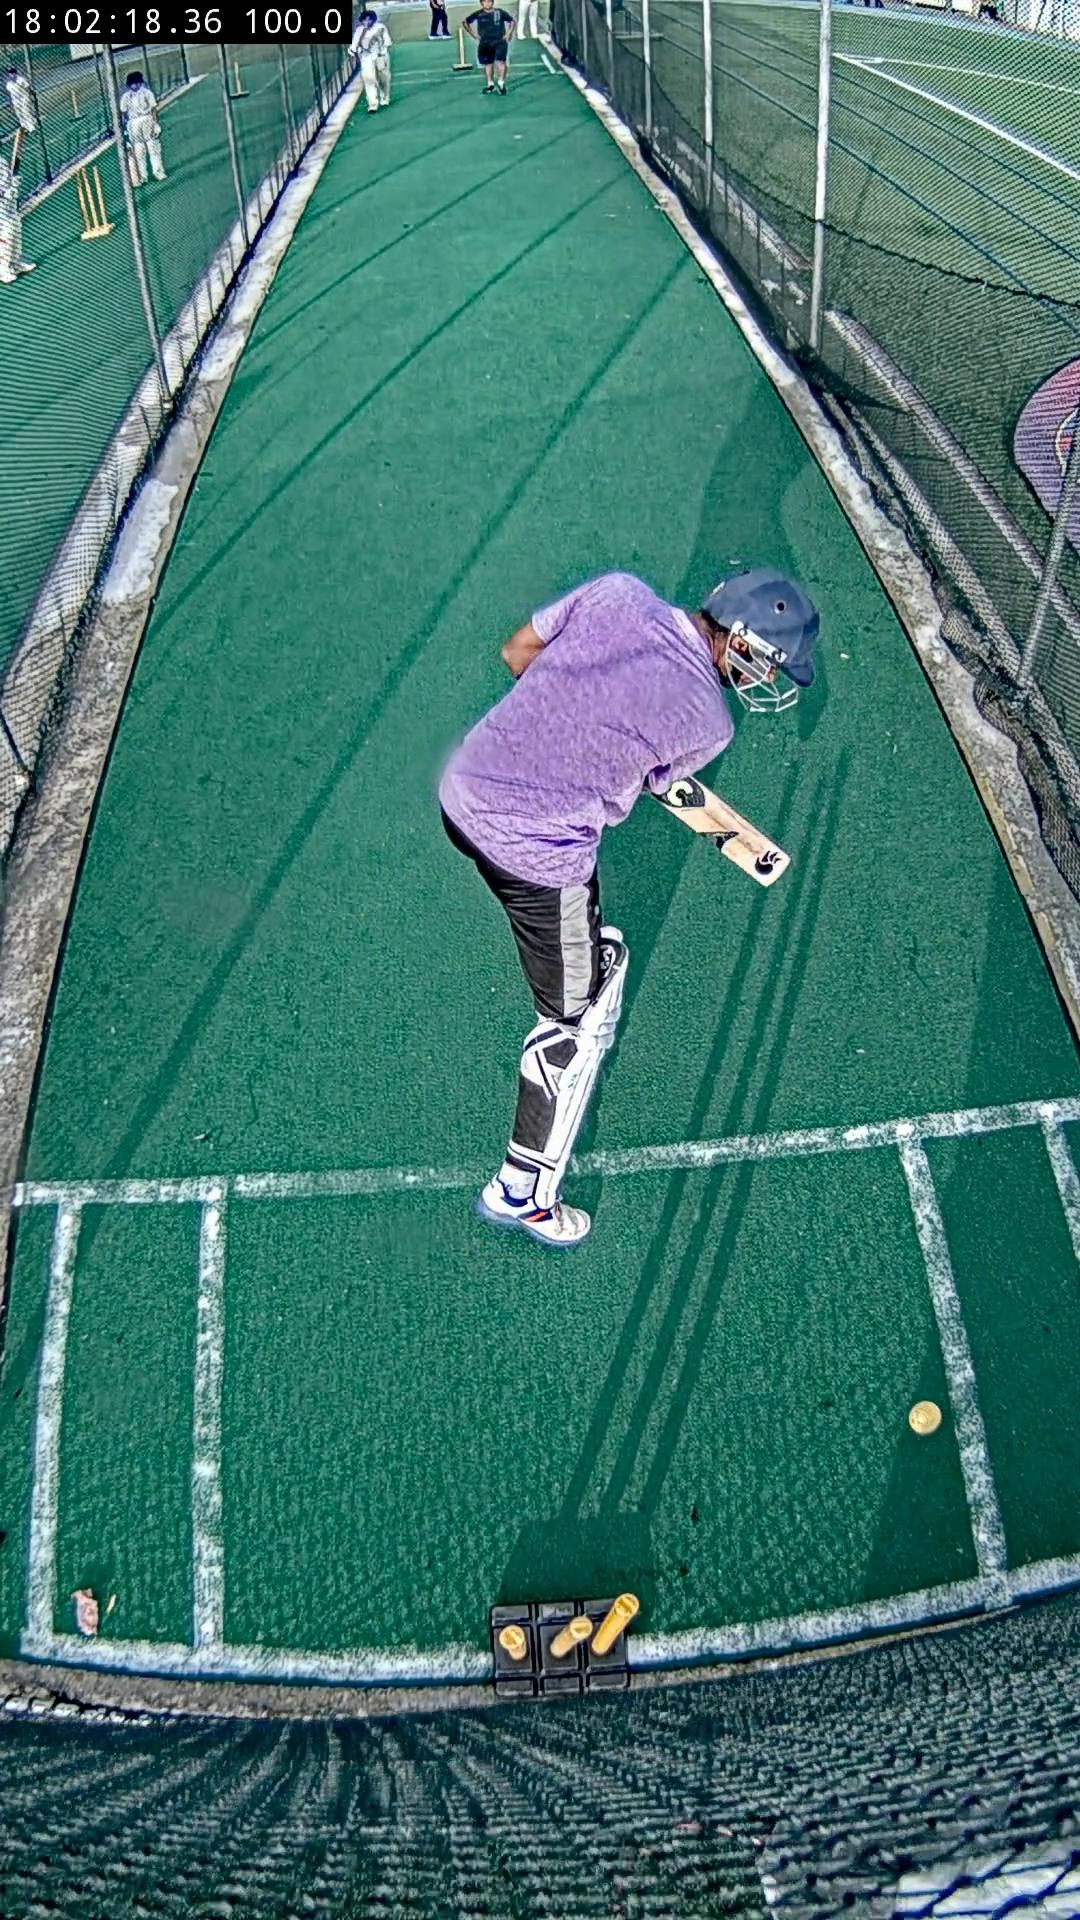ball: (907, 1403, 942, 1436)
bat: (661, 777, 791, 885)
helmet: (702, 566, 818, 686)
pads: (529, 926, 626, 1204)
stumps: (492, 1594, 641, 1698)
